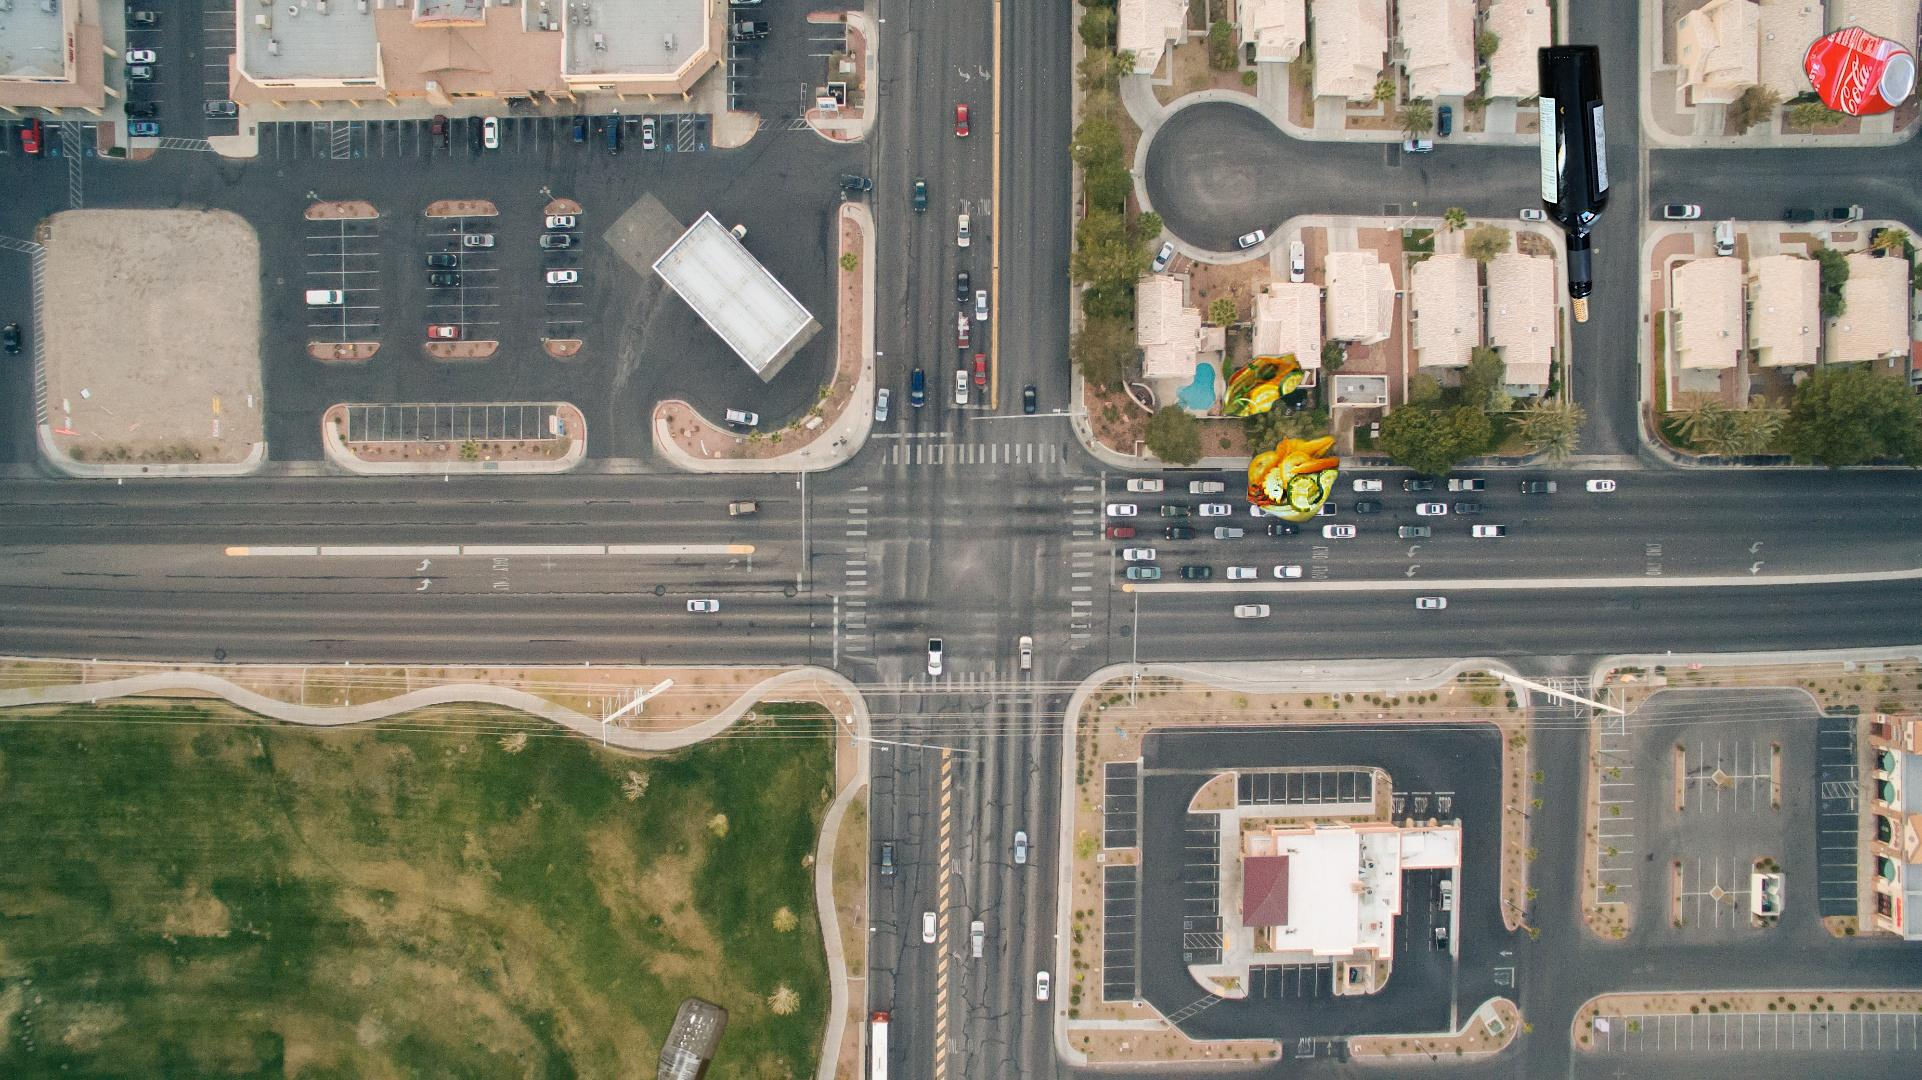biological: (1217, 349, 1375, 526)
glass: (1533, 38, 1614, 329)
metal-cans: (1745, 22, 1922, 283)
plastic-bottles: (647, 991, 733, 1080)
